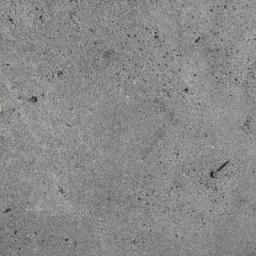FOD: (211, 159, 233, 182)
